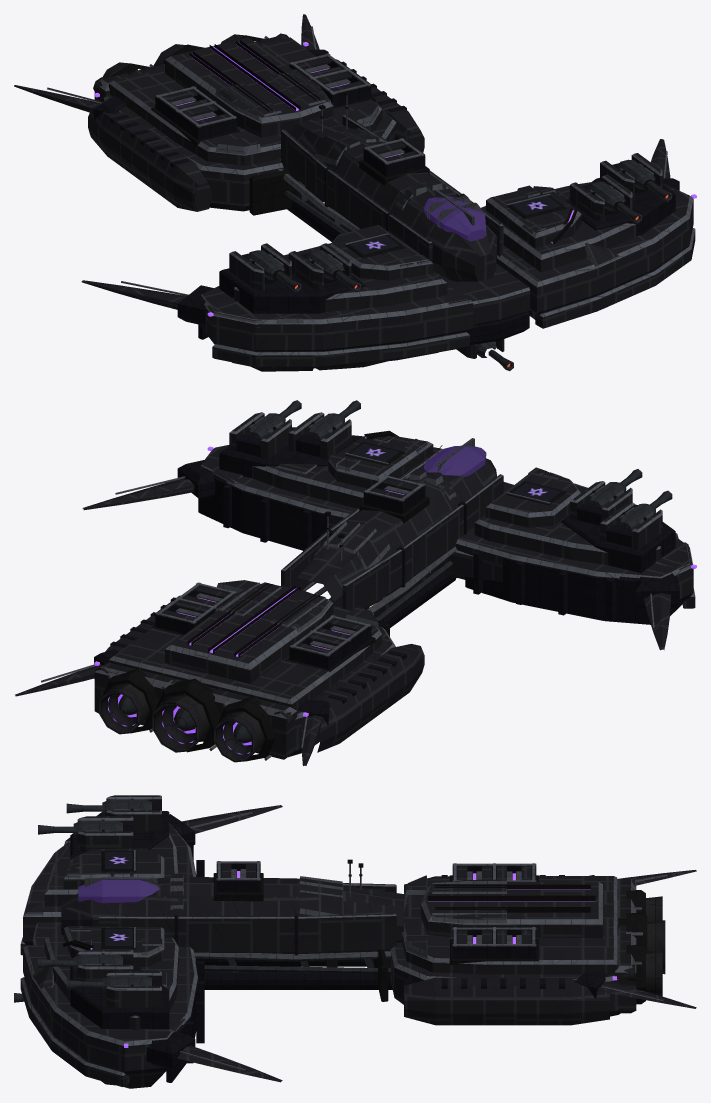
File: eris-schiff3.glb
3 views of the same model, one above another, from view 1: azimuth 30°, elevation 25°; view 2: azimuth 150°, elevation 25°; view 3: azimuth 270°, elevation 25° (orthographic). The views are drawn at different scales.
Parts seen in each view (by area): view 1: Hull_LOD0, Laser_04, Laser_01, Laser_02, Laser_03; view 2: Hull_LOD0, Laser_04, Laser_02, Laser_03, Laser_01; view 3: Hull_LOD0, Laser_02, Laser_04, Laser_03, Laser_01, Faction_Insignia_Left, Insignia_ClanSlot_Right.
Part boxes in pixels (<box>): Hull_LOD0: <box>14,14,696,371</box>; Laser_04: <box>247,250,301,292</box>; Laser_01: <box>587,181,642,223</box>; Laser_02: <box>617,159,672,202</box>; Laser_03: <box>306,250,361,292</box>; Hull_LOD0: <box>15,412,696,765</box>; Laser_04: <box>617,490,672,529</box>; Laser_02: <box>247,400,301,439</box>; Laser_03: <box>587,469,642,507</box>; Laser_01: <box>306,400,360,439</box>; Hull_LOD0: <box>20,795,696,1088</box>; Laser_02: <box>66,974,151,992</box>; Laser_04: <box>66,798,151,816</box>; Laser_03: <box>38,819,122,837</box>; Laser_01: <box>38,953,122,971</box>; Faction_Insignia_Left: <box>105,928,132,945</box>; Insignia_ClanSlot_Right: <box>105,852,132,868</box>.
Size of the model in its own units: 54.68 by 13.66 by 57.02.
Materials: 6 (4 with a texture image).
